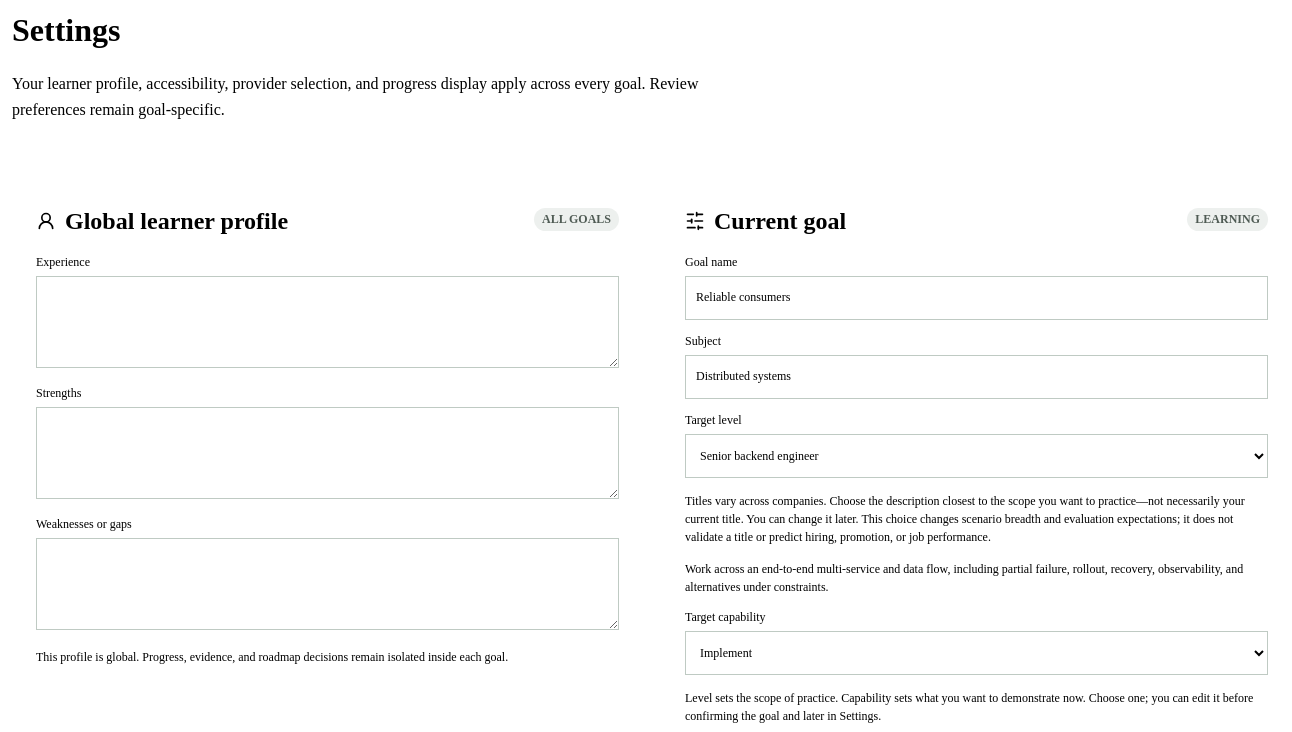
Test: server-backed settings and data lifecycle › persists current-goal settings with its row revision
This screenshot has width=1292, height=732.
Replace the text in the field labelled "Goal name" with "Reliable delivery systems" at (976, 298), box [685,276,1268,320]
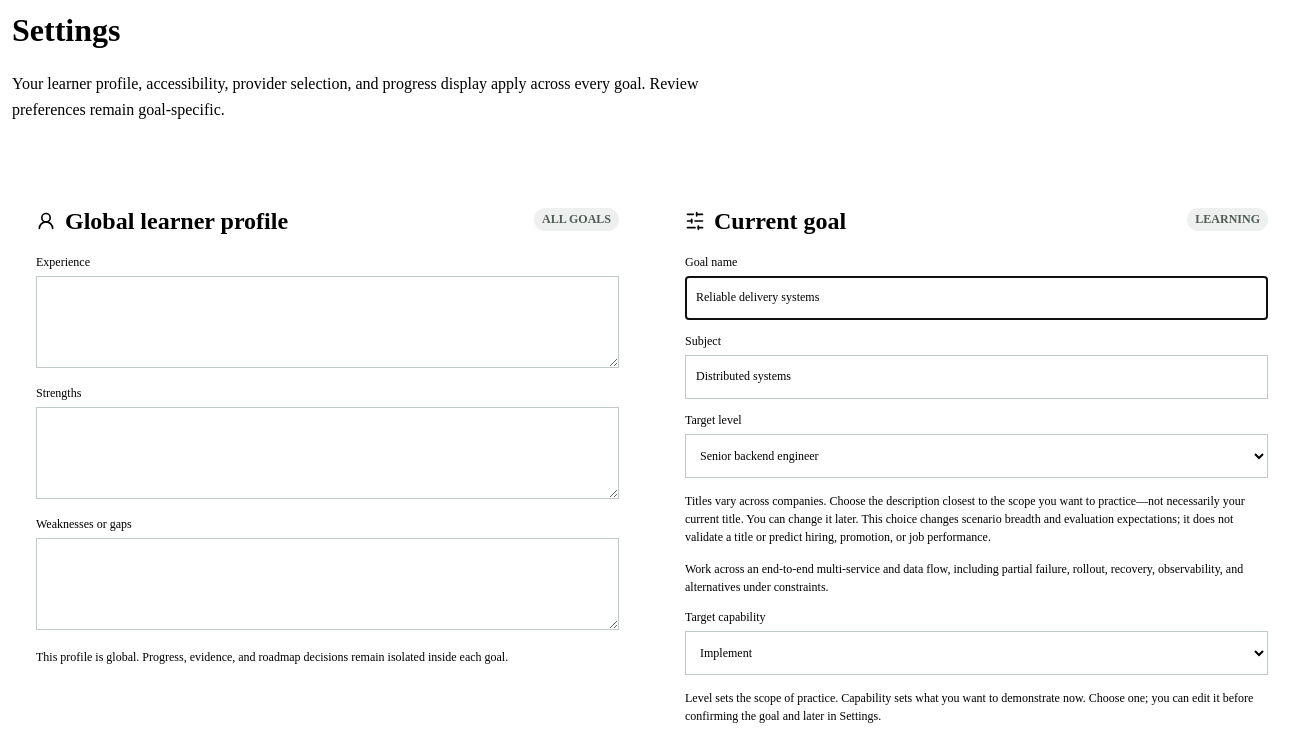
Replace the text in the field labelled "Subject" with "Distributed delivery" at (976, 377), box [685,355,1268,399]
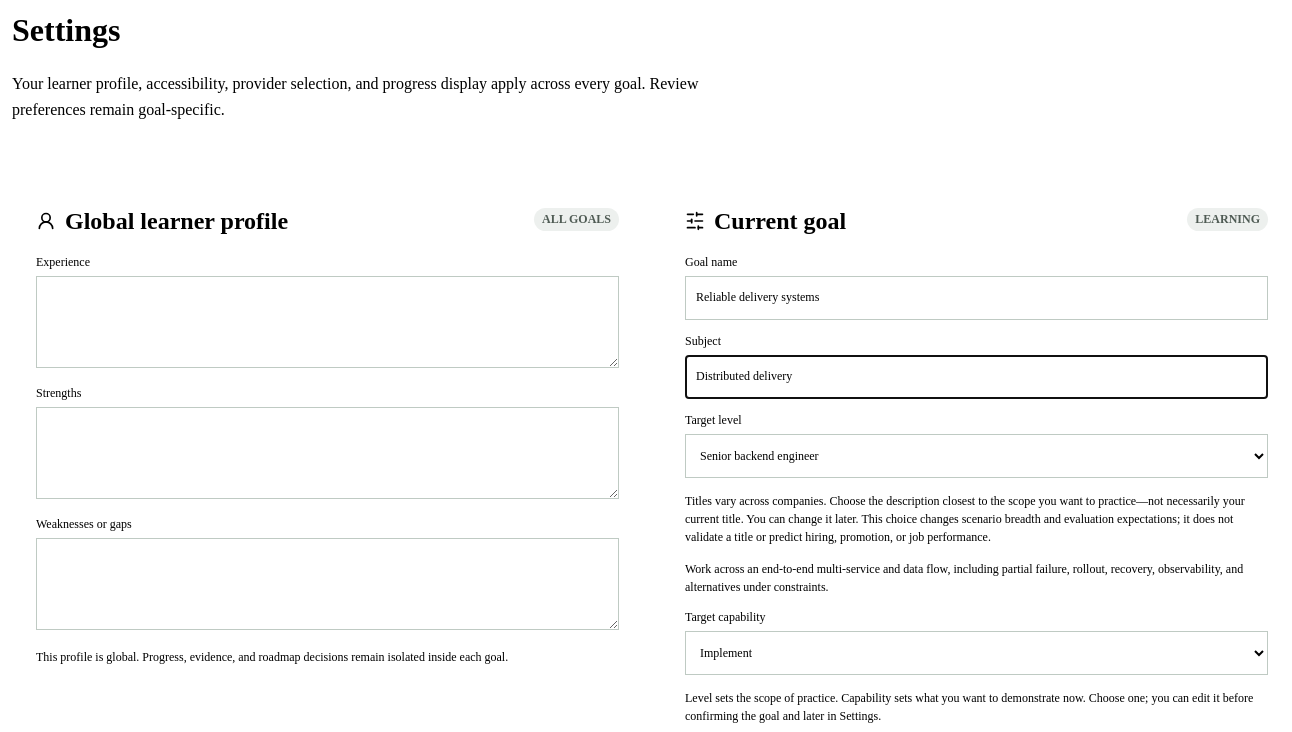
Select "Staff-level backend engineer" in the dropdown labelled "Target level" at (976, 456), box [685,434,1268,478]
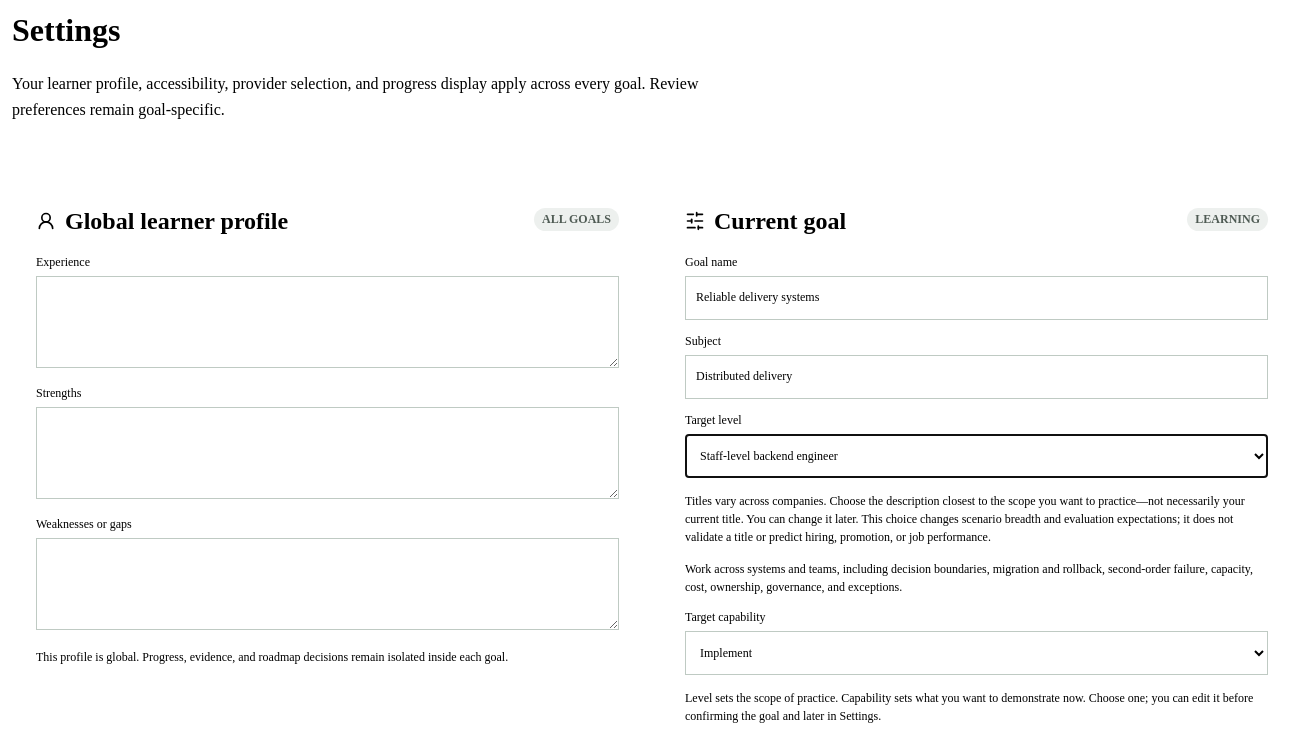
Select "Diagnose" in the dropdown labelled "Target capability" at (976, 653), box [685,631,1268,675]
(page scrolled)
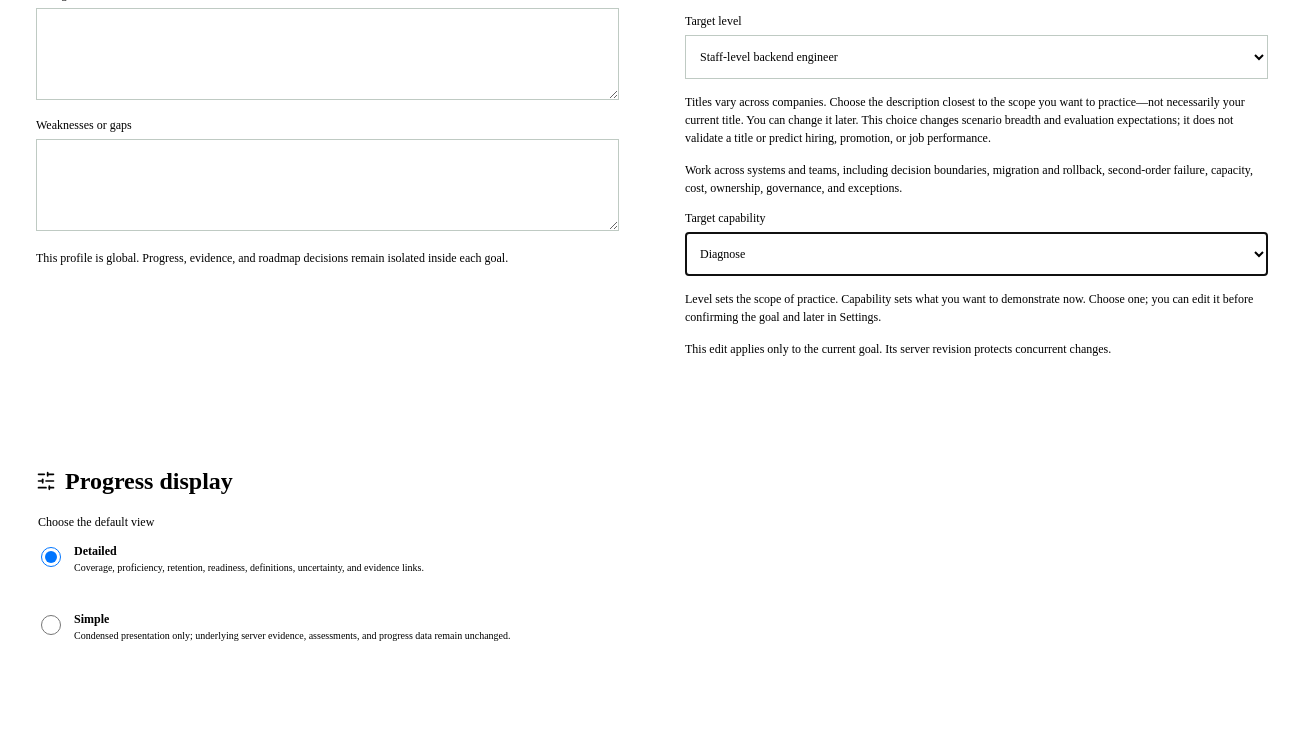
Click the button "Save current goal" at (750, 380), box [685,358,814,402]
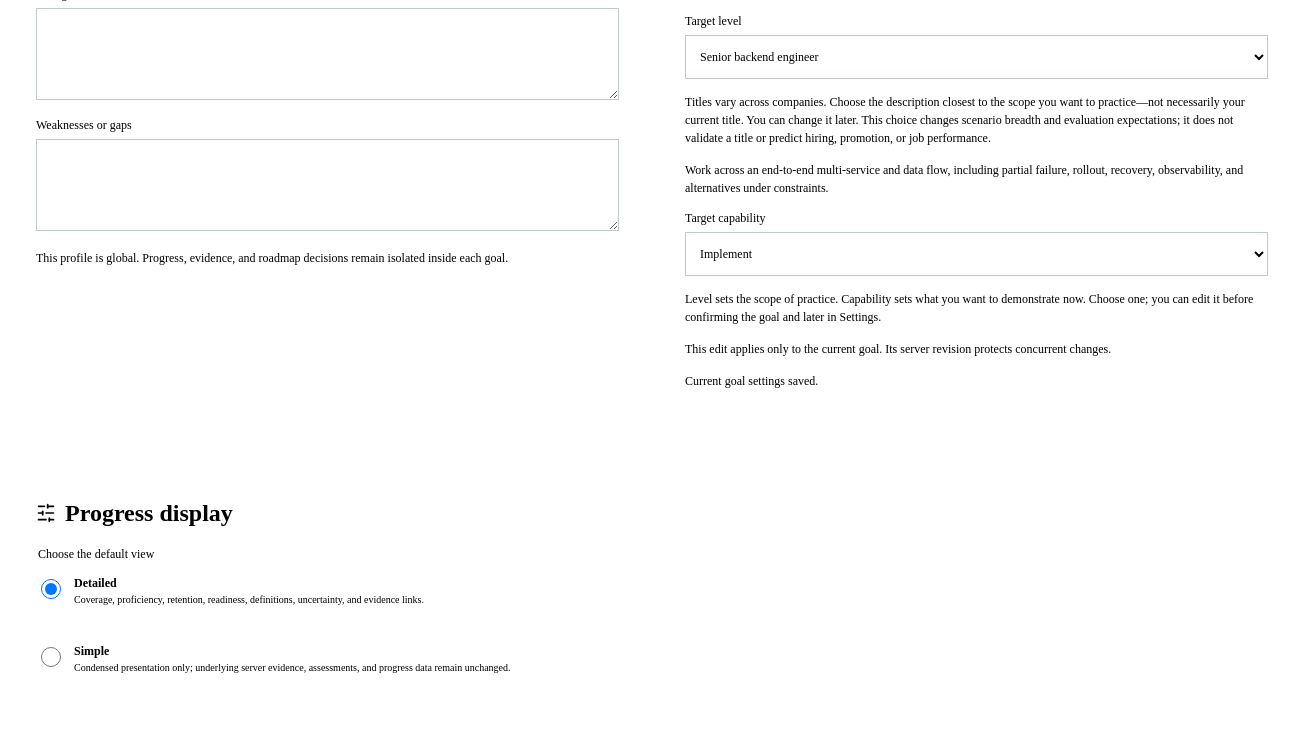
Result: the text "Current goal settings saved." is shown at [685,374,818,388]
